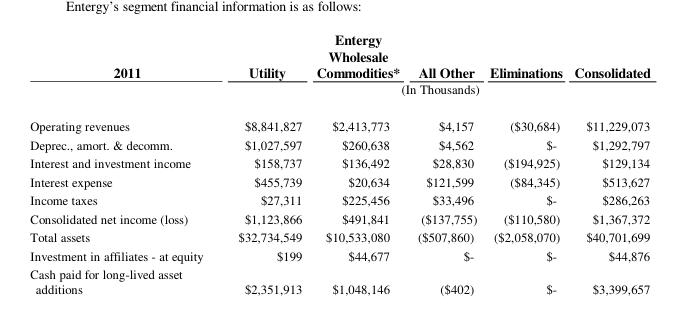table: (29, 29, 650, 297)
table column: (29, 29, 220, 297), (308, 29, 408, 297), (220, 29, 308, 297), (482, 29, 567, 297), (567, 29, 650, 297), (408, 29, 482, 297)
table column header: (29, 29, 650, 106)
table row: (29, 29, 650, 81), (29, 264, 650, 297), (29, 106, 650, 134), (29, 81, 650, 106), (29, 134, 650, 153), (29, 171, 650, 190), (29, 208, 650, 227), (29, 245, 650, 264), (29, 153, 650, 171), (29, 190, 650, 208), (29, 227, 650, 245)
table spanning cell: (29, 29, 220, 106), (220, 81, 650, 106)
